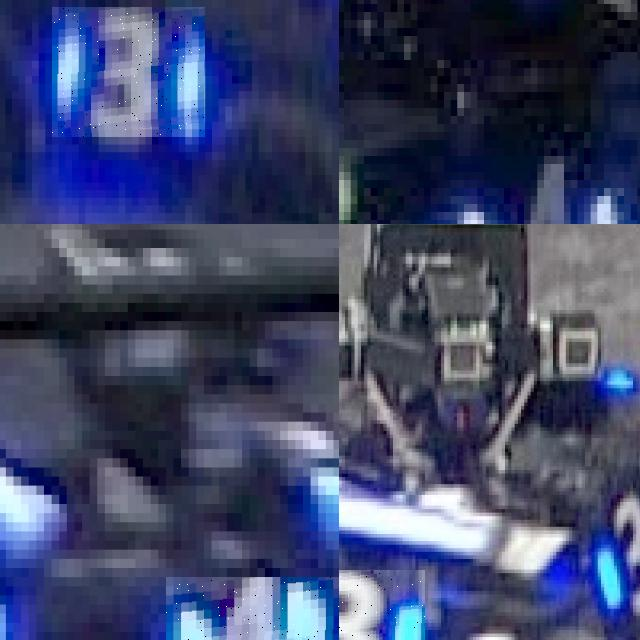B3: (52, 7, 205, 137), (591, 491, 640, 619), (339, 569, 424, 640)
B4: (457, 156, 623, 224), (166, 577, 339, 640)
